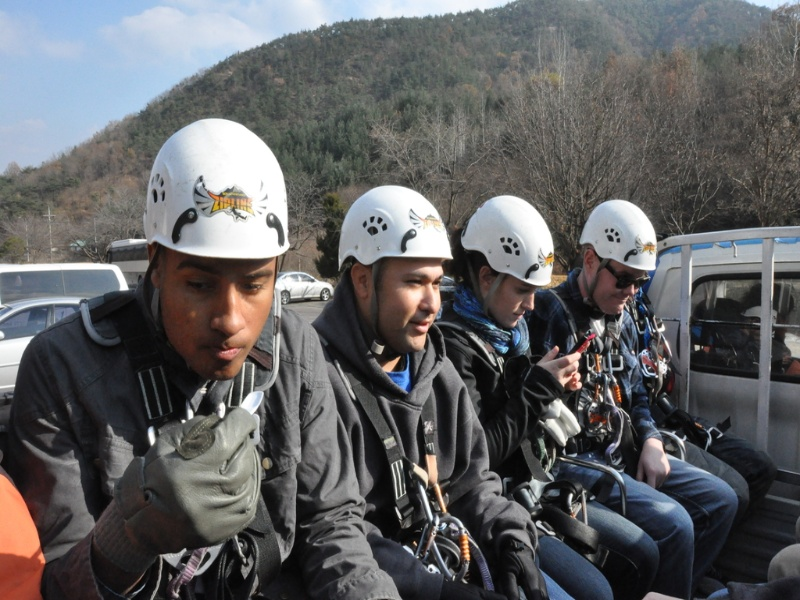helmet: (141, 117, 294, 261), (338, 185, 454, 264), (465, 194, 556, 286), (578, 198, 660, 271)
